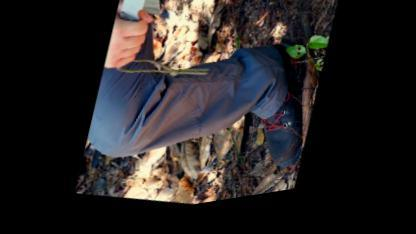knife: (102, 0, 168, 83)
